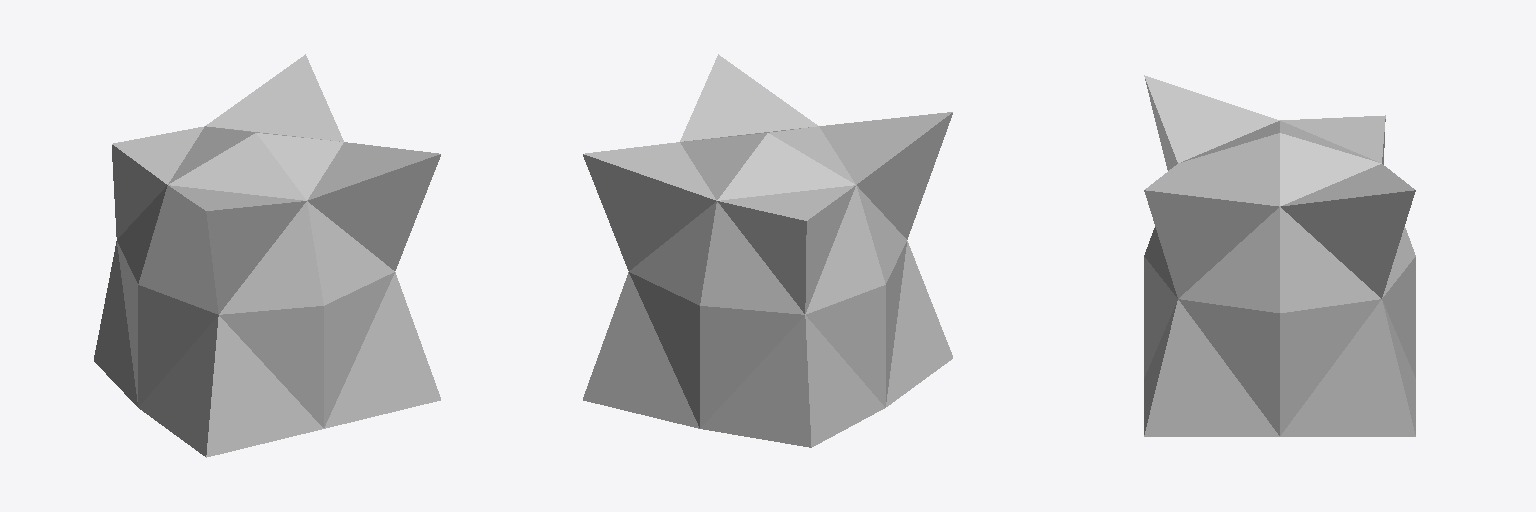
The model's file is maya_vertex_crease_single_lefthanded.obj.
The picture shows the model from 3 angles: view 1: azimuth 30°, elevation 25°; view 2: azimuth 150°, elevation 25°; view 3: azimuth 270°, elevation 25°; orthographic projection.
Parts seen in each view (by area): view 1: pCube1; view 2: pCube1; view 3: pCube1.
Part boxes in pixels (x1,y1,x2,y2): pCube1: (94, 54, 440, 457); pCube1: (583, 54, 952, 447); pCube1: (1144, 75, 1415, 436).
Bounding box in the file's own units: 1 × 1 × 1.